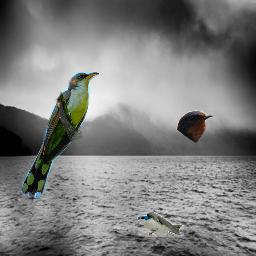Cuckoo: (22, 72, 99, 198)
Swallow: (176, 110, 214, 143), (138, 212, 184, 237)
